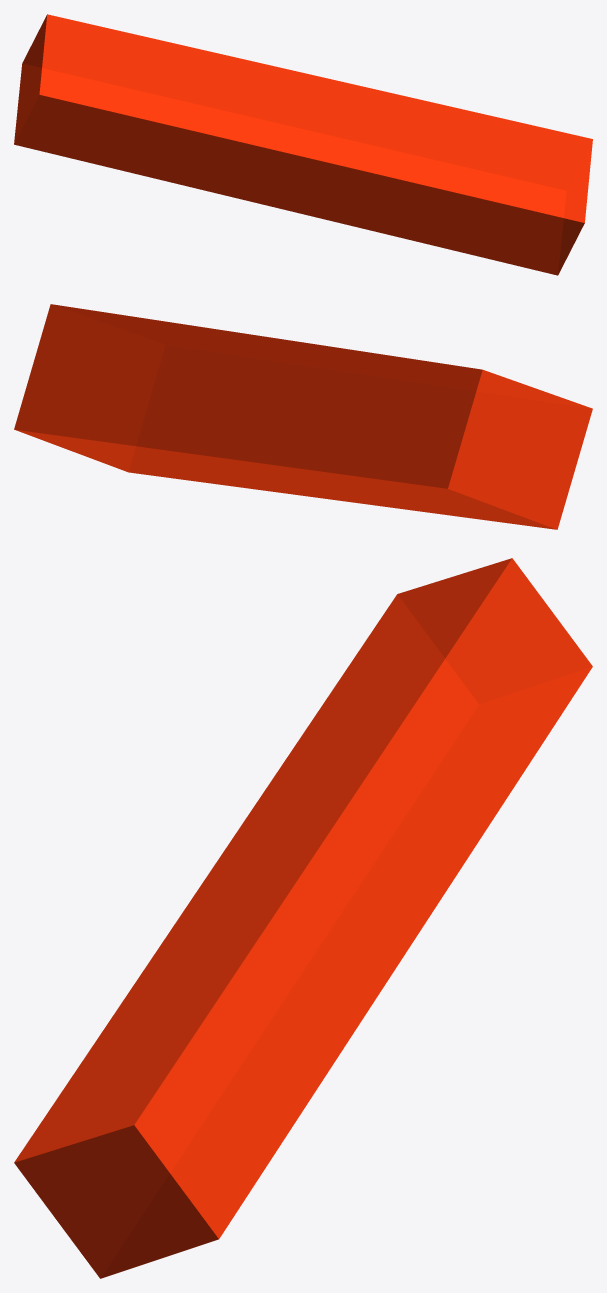
File: Event_421278790_EBrechit_21.fbx
3 renders of one model, top to bottom at view 1: azimuth 30°, elevation 25°; view 2: azimuth 150°, elevation 25°; view 3: azimuth 270°, elevation 25°, orthographic. The views are drawn at different scales.
Visible parts, largest first — view 1: Model; view 2: Model; view 3: Model.
Part boxes in pixels (x1,y1,x2,y2): Model: (14, 14, 592, 275); Model: (14, 304, 592, 529); Model: (14, 558, 592, 1278).
Size of the model in its own units: 0.3361 by 0.1777 by 0.2219.
